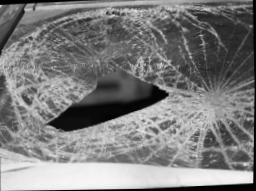Windshield: (0, 0, 256, 172)
